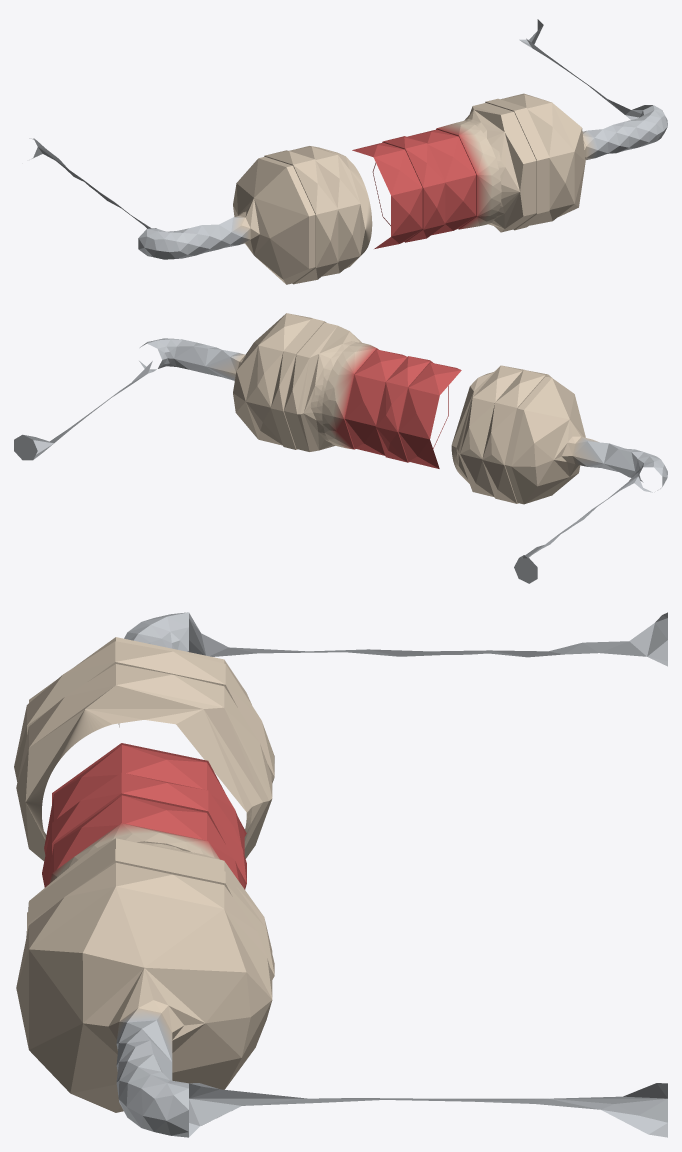
The model's file is resistor.glb.
3 views of the same model, one above another, from view 1: azimuth 30°, elevation 25°; view 2: azimuth 150°, elevation 25°; view 3: azimuth 270°, elevation 25° (orthographic). The views are drawn at different scales.
Parts seen in each view (by area): view 1: Created by Gmsh; view 2: Created by Gmsh; view 3: Created by Gmsh.
Part boxes in pixels (x1,y1,x2,y2): Created by Gmsh: (29, 19, 667, 284); Created by Gmsh: (14, 313, 667, 583); Created by Gmsh: (14, 612, 667, 1137).
Size of the model in its own units: 0.1884 by 0.0411 by 0.1057.
